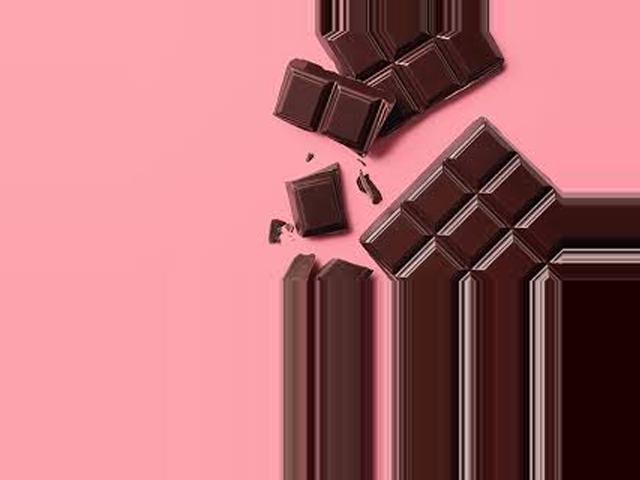chocolate: (290, 46, 564, 278)
